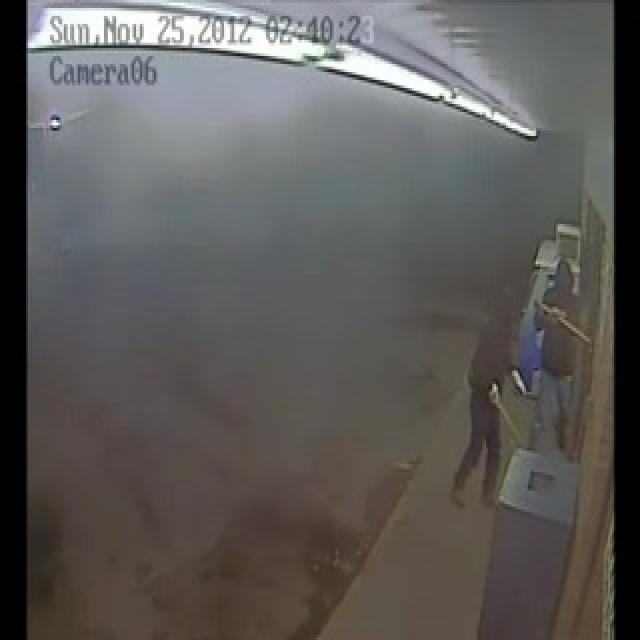thief: (454, 288, 528, 506), (533, 261, 583, 457)
